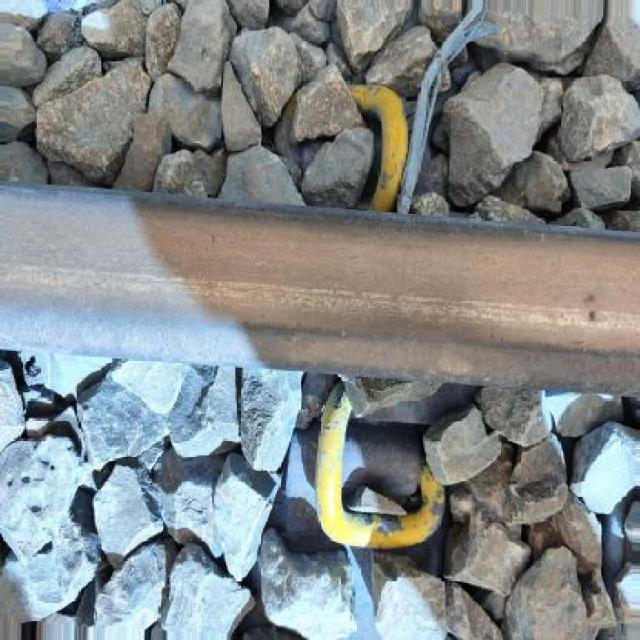non-defective: (14, 125, 629, 504)
